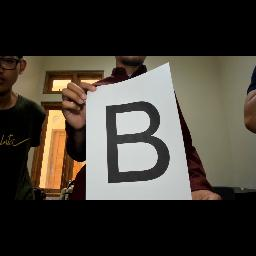b: (100, 97, 180, 189)
